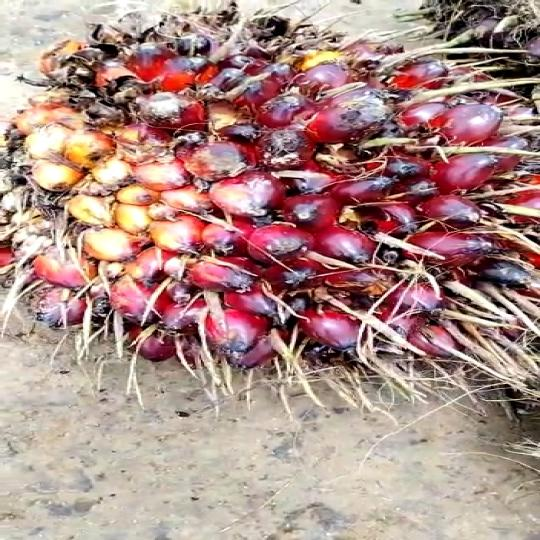masak: (0, 0, 540, 382)
